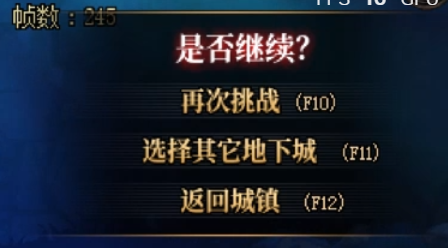sfjx: (171, 29, 313, 67)
